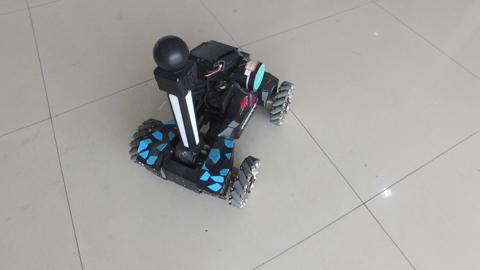chariot: (102, 35, 283, 208)
